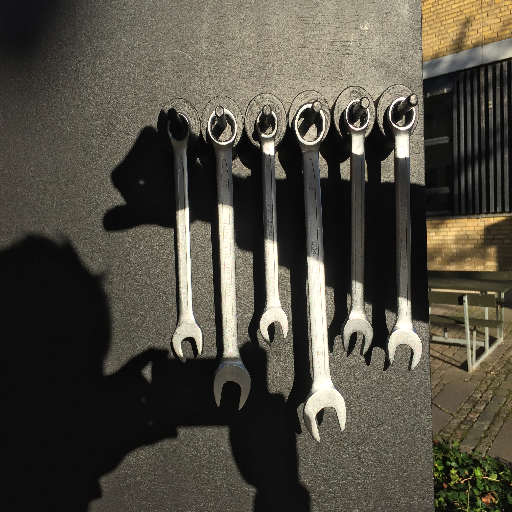bottom: (303, 385, 347, 443), (211, 358, 252, 413), (385, 325, 423, 373), (340, 309, 374, 358), (170, 323, 205, 366), (257, 305, 290, 344)
top: (292, 101, 326, 152), (384, 94, 420, 136), (206, 107, 240, 150), (342, 97, 371, 136), (165, 109, 193, 149), (254, 106, 280, 142)
